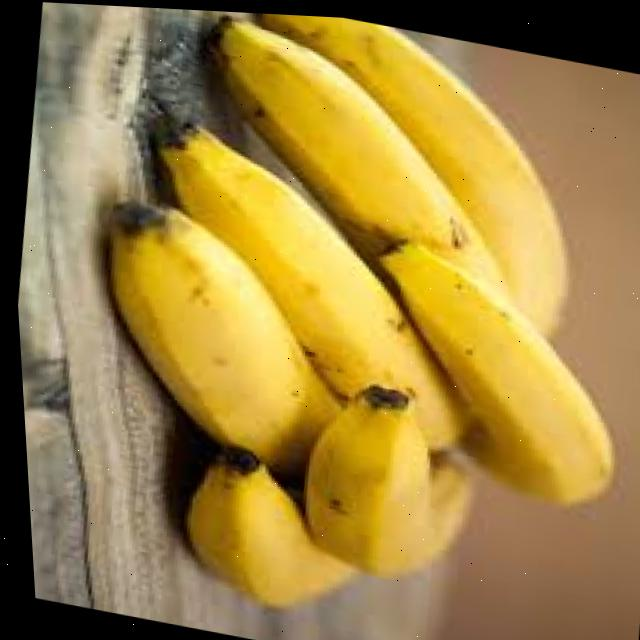Banana: (158, 128, 463, 445), (260, 11, 562, 330), (213, 16, 501, 285), (107, 202, 335, 473), (378, 240, 605, 500), (298, 382, 466, 573), (180, 449, 349, 604)
